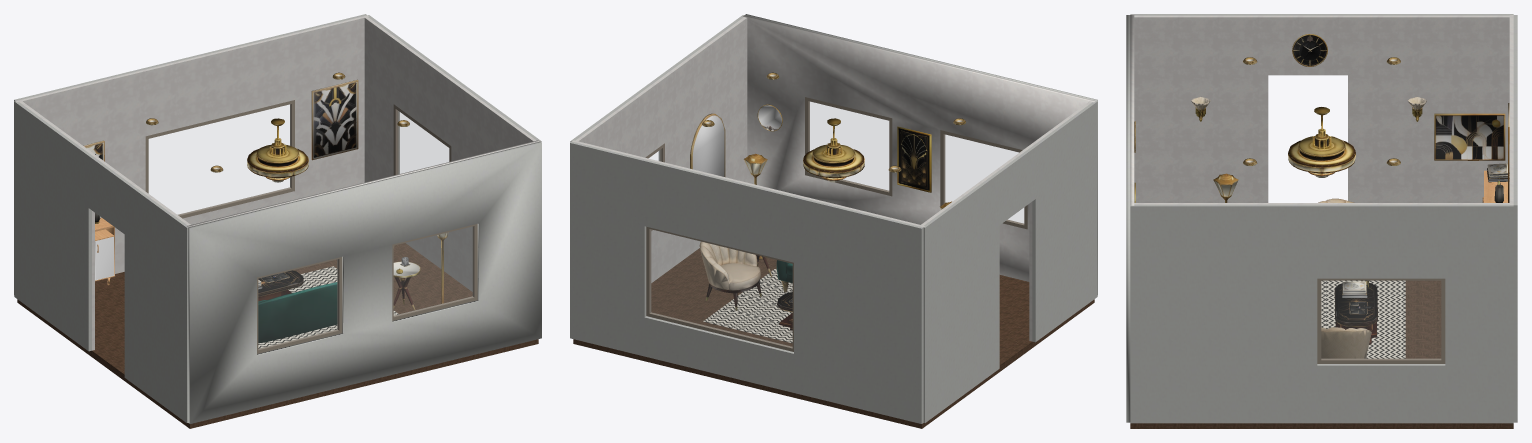
File: scene_named.glb
3 renders of one model, left to right at view 1: azimuth 30°, elevation 25°; view 2: azimuth 150°, elevation 25°; view 3: azimuth 270°, elevation 25°, orthographic. The views are drawn at different scales.
Parts seen in each view (by area): view 1: south_wall_exterior_living_room/south_wall_exterior_living_r, west_wall_exterior_living_room/west_wall_exterior_living_roo, north_wall_living_room/north_wall_living_room/geometry_0, east_wall_living_room/east_wall_living_room/geometry_0, window_1_living_room/window_1_living_room/glass, floor_living_room, window_3_living_room/window_3_living_room/glass, window_2_living_room/window_2_living_room/glass, sofa_0, geometric_print_1, window_4_living_room/window_4_living_room/glass, chandelier_0 (+12 smaller); view 2: north_wall_exterior_living_room/north_wall_exterior_living_r, south_wall_living_room/south_wall_living_room/geometry_0, west_wall_exterior_living_room/west_wall_exterior_living_roo, east_wall_living_room/east_wall_living_room/geometry_0, window_1_living_room/window_1_living_room/glass, floor_living_room, window_3_living_room/window_3_living_room/glass, rug_0, window_2_living_room/window_2_living_room/glass, armchair_0, print_0, chandelier_0 (+9 smaller); view 3: east_wall_exterior_living_room/east_wall_exterior_living_roo, west_wall_living_room/west_wall_living_room/geometry_0, window_4_living_room/window_4_living_room/glass, floor_living_room, abstract_print_0, rug_0, chandelier_0, north_wall_exterior_living_room/north_wall_exterior_living_r, south_wall_exterior_living_room/south_wall_exterior_living_r, window_4_living_room/window_4_living_room/frame, armchair_0, coffee_table_0 (+7 smaller).
Part boxes in pixels (left/top/right/bottom): south_wall_exterior_living_room/south_wall_exterior_living_r: left=188, top=141, right=541, bottom=423; west_wall_exterior_living_room/west_wall_exterior_living_roo: left=14, top=101, right=188, bottom=422; north_wall_living_room/north_wall_living_room/geometry_0: left=16, top=15, right=368, bottom=273; east_wall_living_room/east_wall_living_room/geometry_0: left=364, top=17, right=536, bottom=291; window_1_living_room/window_1_living_room/glass: left=149, top=104, right=290, bottom=214; floor_living_room: left=17, top=243, right=538, bottom=428; window_3_living_room/window_3_living_room/glass: left=394, top=227, right=473, bottom=315; window_2_living_room/window_2_living_room/glass: left=258, top=260, right=337, bottom=348; sofa_0: left=258, top=282, right=337, bottom=343; geometric_print_1: left=311, top=79, right=358, bottom=160; window_4_living_room/window_4_living_room/glass: left=397, top=110, right=448, bottom=173; chandelier_0: left=247, top=118, right=308, bottom=182; north_wall_exterior_living_room/north_wall_exterior_living_r: left=570, top=141, right=923, bottom=423; south_wall_living_room/south_wall_living_room/geometry_0: left=743, top=15, right=1095, bottom=281; west_wall_exterior_living_room/west_wall_exterior_living_roo: left=923, top=101, right=1097, bottom=422; east_wall_living_room/east_wall_living_room/geometry_0: left=575, top=17, right=747, bottom=282; window_1_living_room/window_1_living_room/glass: left=650, top=230, right=792, bottom=347; floor_living_room: left=573, top=248, right=1094, bottom=428; window_3_living_room/window_3_living_room/glass: left=809, top=101, right=888, bottom=191; rug_0: left=703, top=269, right=792, bottom=343; window_2_living_room/window_2_living_room/glass: left=944, top=135, right=1023, bottom=223; armchair_0: left=699, top=241, right=761, bottom=310; print_0: left=897, top=126, right=931, bottom=192; chandelier_0: left=803, top=118, right=864, bottom=182; east_wall_exterior_living_room/east_wall_exterior_living_roo: left=1130, top=204, right=1513, bottom=423; west_wall_living_room/west_wall_living_room/geometry_0: left=1134, top=15, right=1509, bottom=202; window_4_living_room/window_4_living_room/glass: left=1321, top=281, right=1440, bottom=358; floor_living_room: left=1130, top=280, right=1513, bottom=428; abstract_print_0: left=1434, top=113, right=1505, bottom=160; rug_0: left=1321, top=280, right=1405, bottom=358; chandelier_0: left=1288, top=107, right=1355, bottom=177; north_wall_exterior_living_room/north_wall_exterior_living_r: left=1513, top=15, right=1517, bottom=422; south_wall_exterior_living_room/south_wall_exterior_living_r: left=1126, top=15, right=1130, bottom=422; window_4_living_room/window_4_living_room/frame: left=1317, top=278, right=1445, bottom=363; armchair_0: left=1321, top=327, right=1371, bottom=358; coffee_table_0: left=1334, top=283, right=1377, bottom=344.
Bounding box in the file's own units: 5.7 × 3.1 × 4.9.
Materials: 35 (30 with a texture image).
